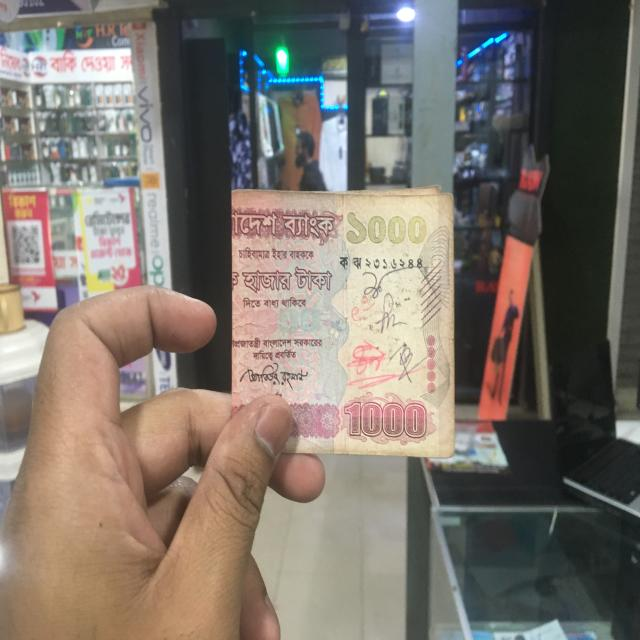Taka: (231, 186, 453, 462)
